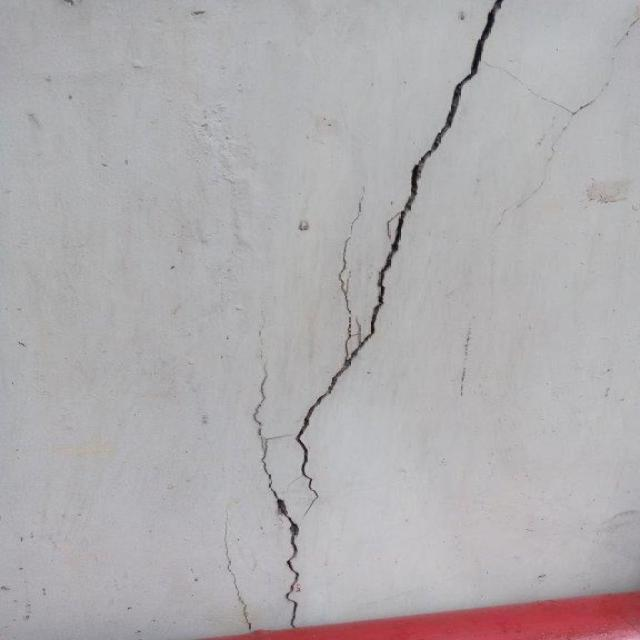Crack: (231, 6, 498, 602)
